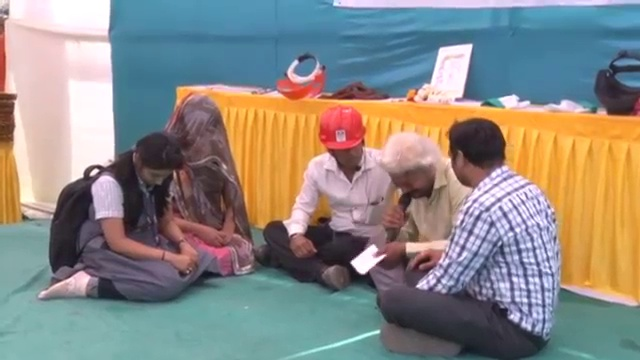helmet: (314, 109, 370, 154)
helmet_off: (444, 117, 517, 197), (380, 136, 445, 208), (167, 94, 229, 164), (122, 130, 184, 191)
helmet_on: (315, 112, 372, 178)
person: (376, 116, 561, 360), (41, 131, 207, 305), (255, 102, 398, 288), (153, 90, 253, 277), (363, 137, 474, 293)
